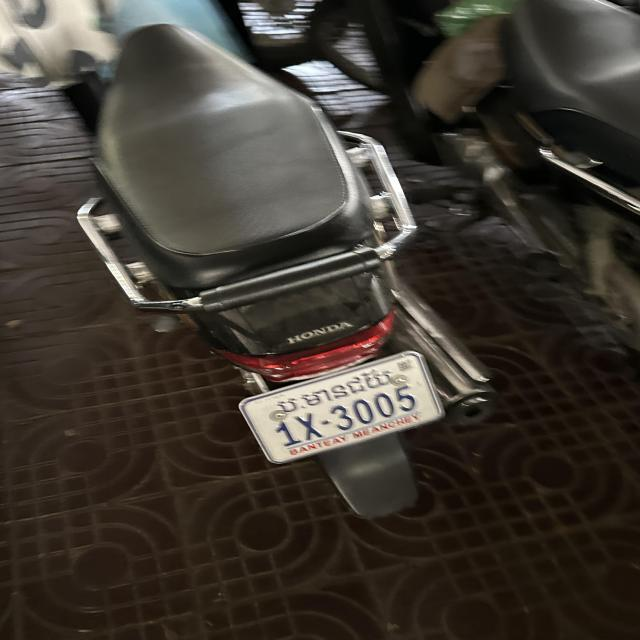Banteay_Meanchey: (275, 365, 398, 413)
